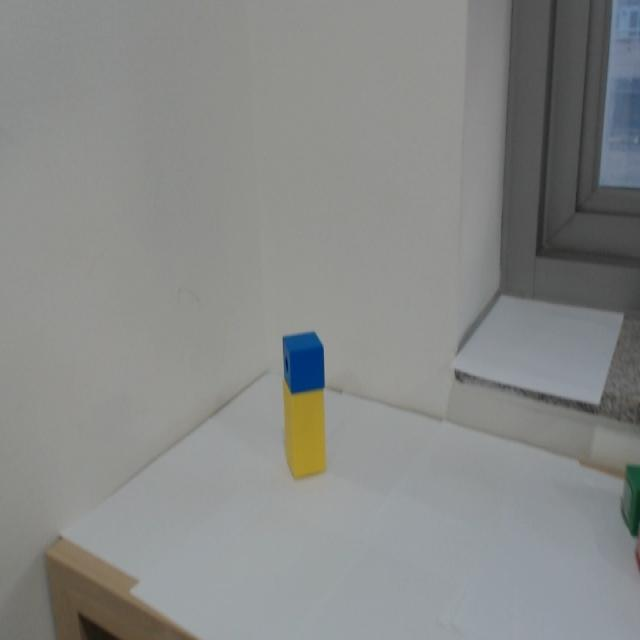cube: (283, 331, 325, 395)
